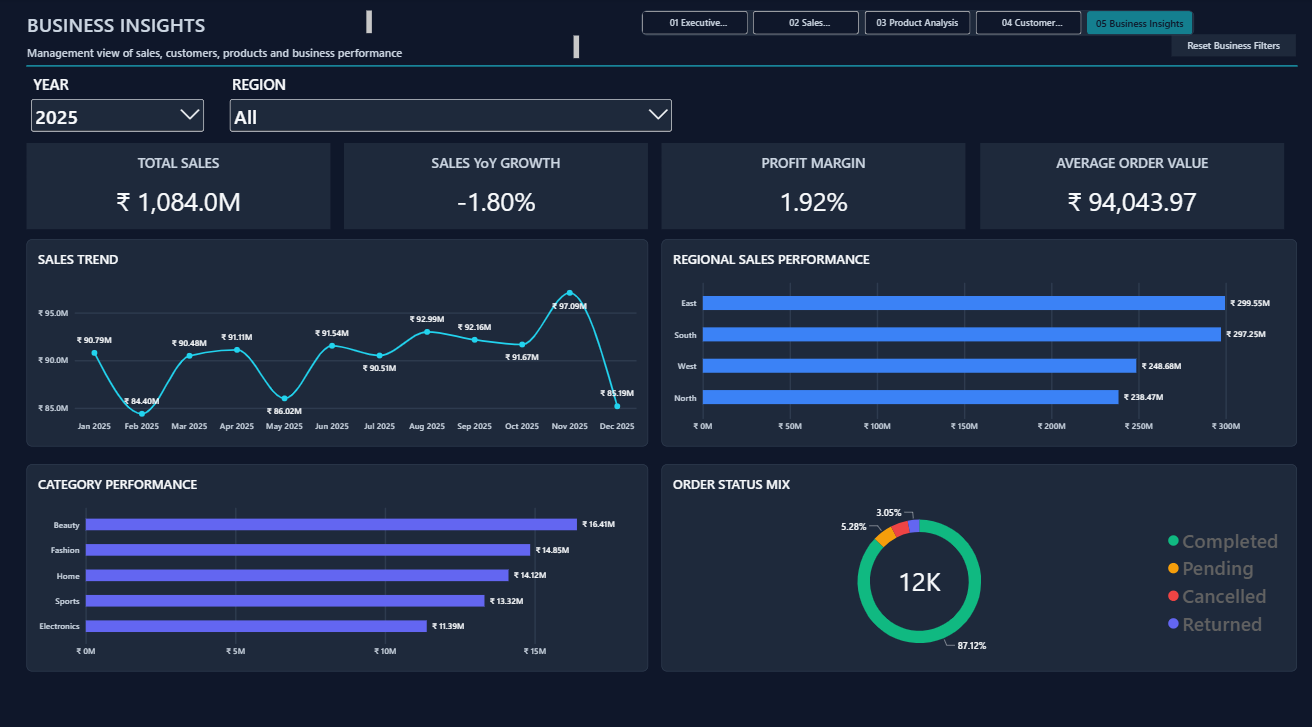

The page's visual inventory and layout, read from the dashboard file:
{"tool":"powerbi","page":{"name":"05 Business Insights","canvas":[1920,1080],"ordinal":5},"visuals":[{"type":"textbox","box":[40,18,500,35],"z":0},{"type":"textbox","box":[40,55,800,35],"z":1000},{"type":"shape","box":[40,92,1840,12],"z":2000},{"type":"slicer","fields":{"Values":["DimDate.Year"]},"box":[40.7,110.5,260,85],"z":3000},{"type":"slicer","fields":{"Values":["DimStore.Store_Region"]},"box":[330,110,650,85],"z":4000},{"type":"actionButton","box":[1697.5,52.5,180,32],"z":5000},{"type":"card","title":"TOTAL SALES","fields":{"Values":["_Measures.Total Sales"]},"box":[40,210,440,125],"z":6000},{"type":"card","title":"SALES YoY GROWTH","fields":{"Values":["_Measures.Total Sales YoY %"]},"box":[500,210,440,125],"z":7000},{"type":"card","title":"PROFIT MARGIN","fields":{"Values":["_Measures.Profit Margin %"]},"box":[960,210,440,125],"z":8000},{"type":"card","title":"AVERAGE ORDER VALUE","fields":{"Values":["_Measures.Average Order Value"]},"box":[1420,210,440,125],"z":9000},{"type":"lineChart","title":"SALES TREND","fields":{"Category":["DimDate.Month Year"],"Y":["_Measures.Total Sales"]},"box":[40,350,900,300],"z":10000},{"type":"clusteredBarChart","title":"REGIONAL SALES PERFORMANCE","fields":{"Category":["DimStore.Store_Region"],"Y":["_Measures.Total Sales"]},"box":[960,350,920,300],"z":11000},{"type":"clusteredBarChart","title":"CATEGORY PERFORMANCE","fields":{"Category":["DimProduct.Category"],"Y":["_Measures.Total Sales"]},"box":[40,675.4,900,300],"z":12000},{"type":"donutChart","title":"ORDER STATUS MIX","fields":{"Category":["FactOrders.Order_Status"],"Y":["_Measures.Total Orders"]},"box":[960,675,920,300],"z":13000},{"type":"pageNavigator","box":[930,18.1,800,36],"z":14000}]}

Visuals, with their boxes in screenshot pixels (x1, y1, x2, y2), scaled from the page's 1920x1080 canvas onto the 1312x727 screenshot:
textbox: select_region(27, 12, 369, 36)
textbox: select_region(27, 37, 574, 61)
shape: select_region(27, 62, 1285, 70)
slicer - DimDate.Year: select_region(28, 74, 205, 132)
slicer - DimStore.Store_Region: select_region(226, 74, 670, 131)
actionButton: select_region(1160, 35, 1283, 57)
"TOTAL SALES" card: select_region(27, 141, 328, 226)
"SALES YoY GROWTH" card: select_region(342, 141, 642, 226)
"PROFIT MARGIN" card: select_region(656, 141, 957, 226)
"AVERAGE ORDER VALUE" card: select_region(970, 141, 1271, 226)
"SALES TREND" lineChart: select_region(27, 236, 642, 438)
"REGIONAL SALES PERFORMANCE" clusteredBarChart: select_region(656, 236, 1285, 438)
"CATEGORY PERFORMANCE" clusteredBarChart: select_region(27, 455, 642, 657)
"ORDER STATUS MIX" donutChart: select_region(656, 454, 1285, 656)
pageNavigator: select_region(636, 12, 1182, 36)
